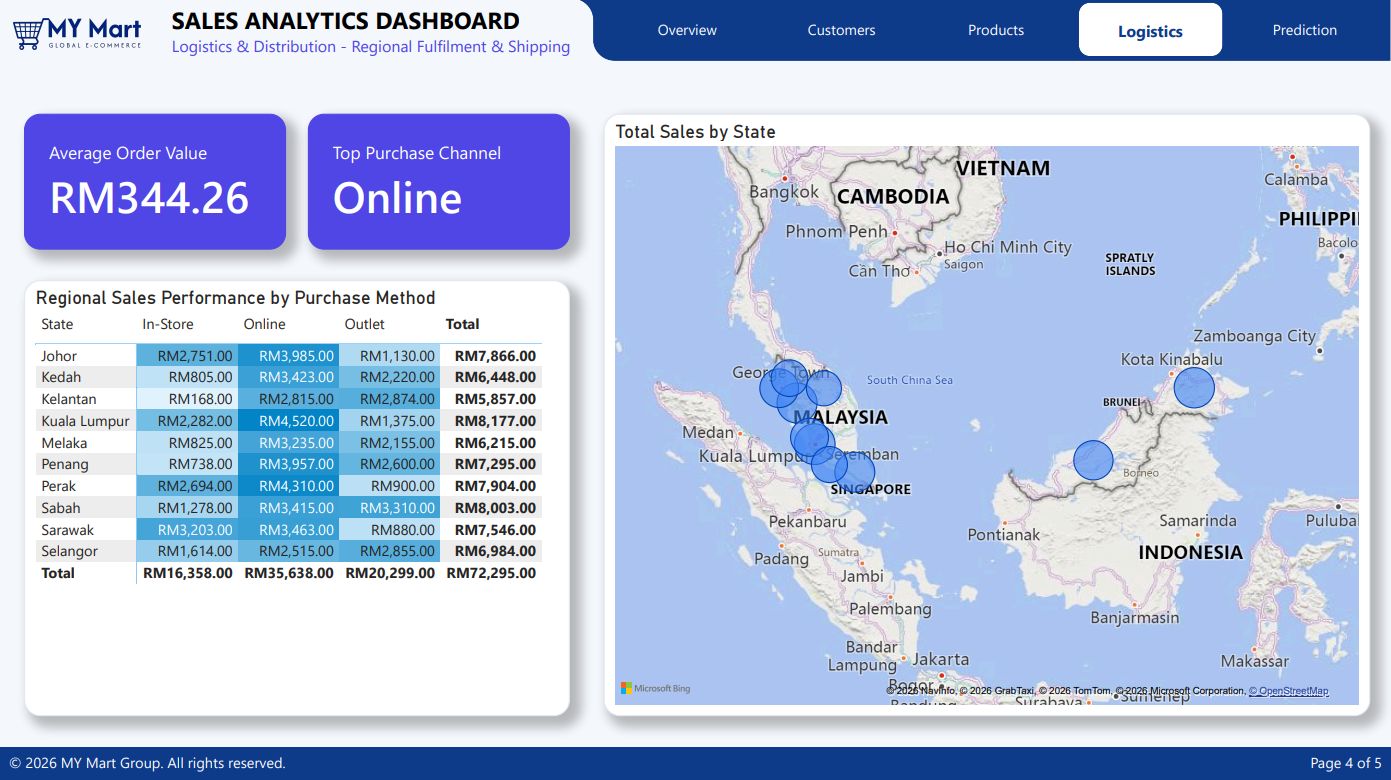

The page's visual inventory and layout, read from the dashboard file:
{"tool":"powerbi","page":{"name":"Logistics","canvas":[1280,720],"ordinal":3},"visuals":[{"type":"pivotTable","title":"Regional Sales Performance by Purchase Method","fields":{"Rows":["MY_Mart_Sales_Data.State"],"Columns":["MY_Mart_Sales_Data.SalesMethod"],"Values":["MY_Mart_Sales_Data.Total Revenue"]},"box":[22.9,259.4,501.9,400.5],"z":0},{"type":"map","title":"Total Sales by State","fields":{"Category":["MY_Mart_Sales_Data.State"],"Size":["MY_Mart_Sales_Data.Total Revenue"]},"box":[556.2,106.2,704.6,553.8],"z":1000},{"type":"shape","title":"NaviTop3","box":[0,0,568.2,33.8],"z":2000},{"type":"shape","title":"NaviTop2","box":[546.3,0,733.7,57.5],"z":3000},{"type":"shape","title":"NaviTop1","box":[0,0,546.5,56.7],"z":4000},{"type":"shape","box":[0,689.4,1280.3,30.6],"z":5000},{"type":"pageNavigator","box":[567,0,704.6,57.9],"z":6000},{"type":"image","box":[13.3,0,117,65.1],"z":7000},{"type":"textbox","box":[3.7,689.4,639.5,30.6],"z":8000},{"type":"textbox","box":[635.9,689.4,640.8,30.6],"z":9000},{"type":"textbox","box":[154.4,0,392.1,65.1],"z":10000},{"type":"cardVisual","fields":{"Data":["MY_Mart_Sales_Data.Top Purchase Channel"]},"box":[283.5,106.2,241.3,125.5],"z":11000},{"type":"cardVisual","fields":{"Data":["MY_Mart_Sales_Data.Average Order Value"]},"box":[22.9,106.2,241.3,125.5],"z":13000}]}

Visuals, with their boxes in screenshot pixels (x1, y1, x2, y2), scaled from the page's 1280x720 canvas onto the 1391x780 screenshot:
"Regional Sales Performance by Purchase Method" pivotTable: 25:281:570:715
"Total Sales by State" map: 604:115:1370:715
"NaviTop3" shape: 0:0:617:37
"NaviTop2" shape: 594:0:1390:62
"NaviTop1" shape: 0:0:594:61
shape: 0:747:1390:779
pageNavigator: 616:0:1382:63
image: 14:0:142:71
textbox: 4:747:699:779
textbox: 691:747:1387:779
textbox: 168:0:594:71
cardVisual - MY_Mart_Sales_Data.Top Purchase Channel: 308:115:570:251
cardVisual - MY_Mart_Sales_Data.Average Order Value: 25:115:287:251
